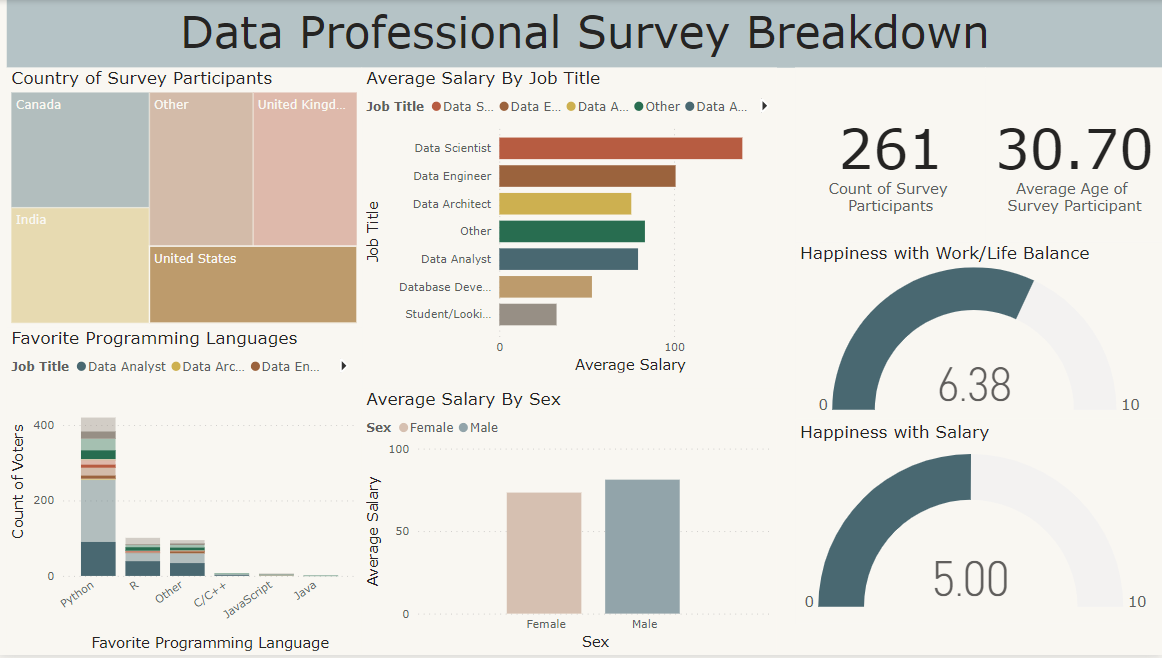

The page's visual inventory and layout, read from the dashboard file:
{"tool":"powerbi","page":{"name":"Page 1","canvas":[1280,720],"ordinal":0},"visuals":[{"type":"textbox","box":[9.6,0,1270.4,74.2],"z":0},{"type":"card","fields":{"Values":["Count(Data Professional Survey.Unique ID)"]},"box":[876.2,74.2,208.8,190.9],"z":1000},{"type":"card","fields":{"Values":["Avg(Data Professional Survey.Q10 - Current Age)"]},"box":[1085,74.2,195,190.9],"z":2000},{"type":"barChart","title":"Average Salary By Job Title","fields":{"Category":["Data Professional Survey.Q1 - Which Title Best Fits your Current Role?.1"],"Y":["Avg(Data Professional Survey.Average Salary)"],"Series":["Data Professional Survey.Q1 - Which Title Best Fits your Current Role?.1"]},"box":[399.7,74.2,456,340.6],"z":2001},{"type":"columnChart","title":"Favorite Programming Languages","fields":{"Category":["Data Professional Survey.Q5 - Favorite Programming Language.1"],"Y":["CountNonNull(Data Professional Survey.Unique ID)"],"Series":["Data Professional Survey.Q1 - Which Title Best Fits your Current Role?.1"]},"box":[9.6,359.8,390,359.8],"z":2002},{"type":"treemap","title":"Country of Survey Takers","fields":{"Group":["Data Professional Survey.Q11 - Which Country do you live in?.1"],"Values":["Count(Data Professional Survey.Q11 - Which Country do you live in?.1)"]},"box":[9.6,74.2,390,285.7],"z":2003},{"type":"gauge","title":"Happiness with Work/Life Balance","fields":{"Y":["Avg(Data Professional Survey.Q6 - How Happy are you in your Current Position with the following? (Work/Life Balance))"],"MinValue":["Min(Data Professional Survey.Q6 - How Happy are you in your Current Position with the following? (Work/Life Balance))1"],"MaxValue":["Max(Data Professional Survey.Q6 - How Happy are you in your Current Position with the following? (Work/Life Balance))2"]},"box":[876.2,266.4,403.8,193.6],"z":2004},{"type":"gauge","title":"Happiness with Salary","fields":{"Y":["Avg(Data Professional Survey.Q6 - How Happy are you in your Current Position with the following? (Salary))"],"MinValue":["Min(Data Professional Survey.Q6 - How Happy are you in your Current Position with the following? (Salary))"],"MaxValue":["Max(Data Professional Survey.Q6 - How Happy are you in your Current Position with the following? (Salary))"]},"box":[876.2,462.8,395.5,222.5],"z":2005},{"type":"columnChart","title":"Average Salary By Sex","fields":{"Category":["Data Professional Survey.Q9 - Male/Female?"],"Y":["Avg(Data Professional Survey.Average Salary)"],"Series":["Data Professional Survey.Q9 - Male/Female?"]},"box":[399.7,427.1,456,292.5],"z":2006}]}

Visuals, with their boxes in screenshot pixels (x1, y1, x2, y2), scaled from the page's 1280x720 canvas onto the 1162x658 screenshot:
textbox: {"x1": 9, "y1": 0, "x2": 1161, "y2": 68}
card - Count(Data Professional Survey.Unique ID): {"x1": 795, "y1": 68, "x2": 985, "y2": 242}
card - Avg(Data Professional Survey.Q10 - Current Age): {"x1": 985, "y1": 68, "x2": 1161, "y2": 242}
"Average Salary By Job Title" barChart: {"x1": 363, "y1": 68, "x2": 777, "y2": 379}
"Favorite Programming Languages" columnChart: {"x1": 9, "y1": 329, "x2": 363, "y2": 657}
"Country of Survey Takers" treemap: {"x1": 9, "y1": 68, "x2": 363, "y2": 329}
"Happiness with Work/Life Balance" gauge: {"x1": 795, "y1": 243, "x2": 1161, "y2": 420}
"Happiness with Salary" gauge: {"x1": 795, "y1": 423, "x2": 1154, "y2": 626}
"Average Salary By Sex" columnChart: {"x1": 363, "y1": 390, "x2": 777, "y2": 657}
